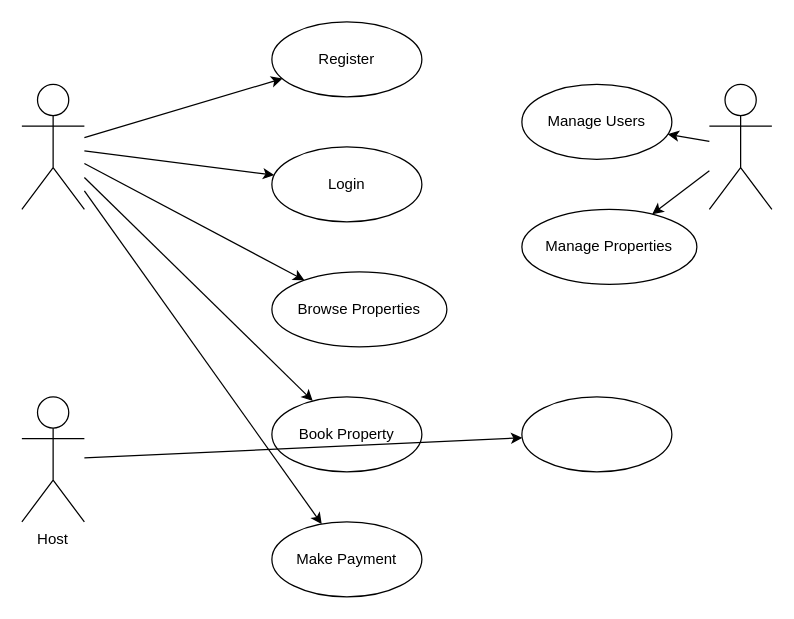
This 794x619 diagram has some shape labels left out. Each missing label, with the centre of its shape:
"Admin" belongs at [740,146].
"Guest" belongs at [52,146].
"List Property" belongs at [596,434].
